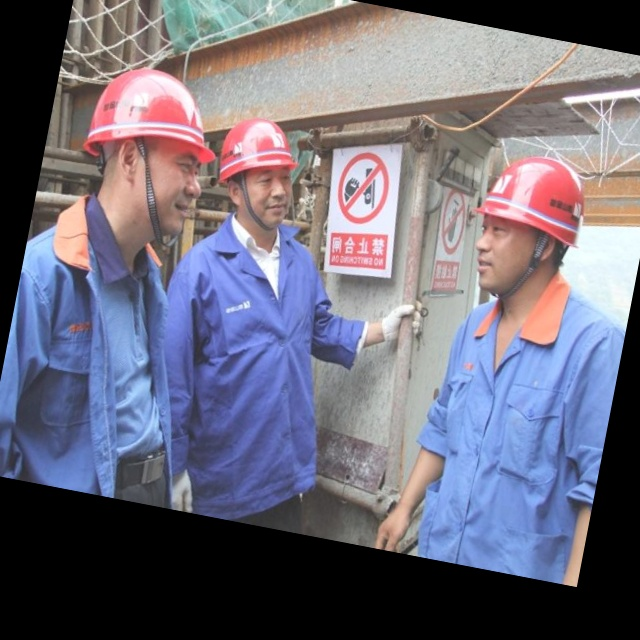Con_Casco: (459, 145, 593, 305), (207, 112, 305, 231)
